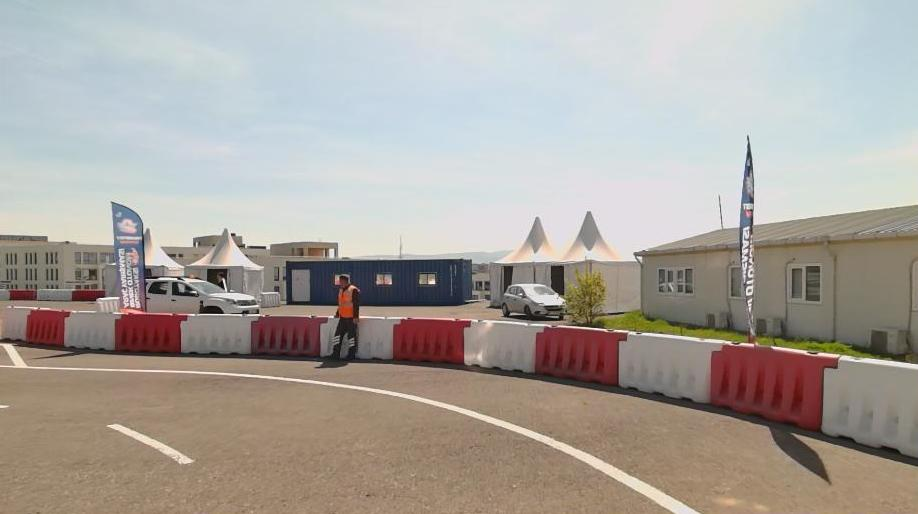nesne: (0, 364, 699, 514), (0, 364, 699, 513), (0, 403, 248, 512), (711, 341, 839, 426), (824, 356, 917, 458), (619, 331, 720, 404), (535, 326, 626, 385), (463, 318, 542, 373), (145, 275, 261, 312), (104, 424, 194, 464), (321, 273, 361, 361), (393, 317, 467, 364), (252, 315, 328, 359), (181, 312, 255, 355), (113, 314, 185, 354), (499, 282, 567, 320), (63, 311, 117, 350), (360, 316, 402, 358), (26, 308, 67, 347), (0, 307, 28, 340), (0, 343, 26, 364), (36, 288, 72, 301), (72, 289, 105, 300), (8, 288, 36, 300), (260, 292, 280, 307), (96, 297, 120, 309)
